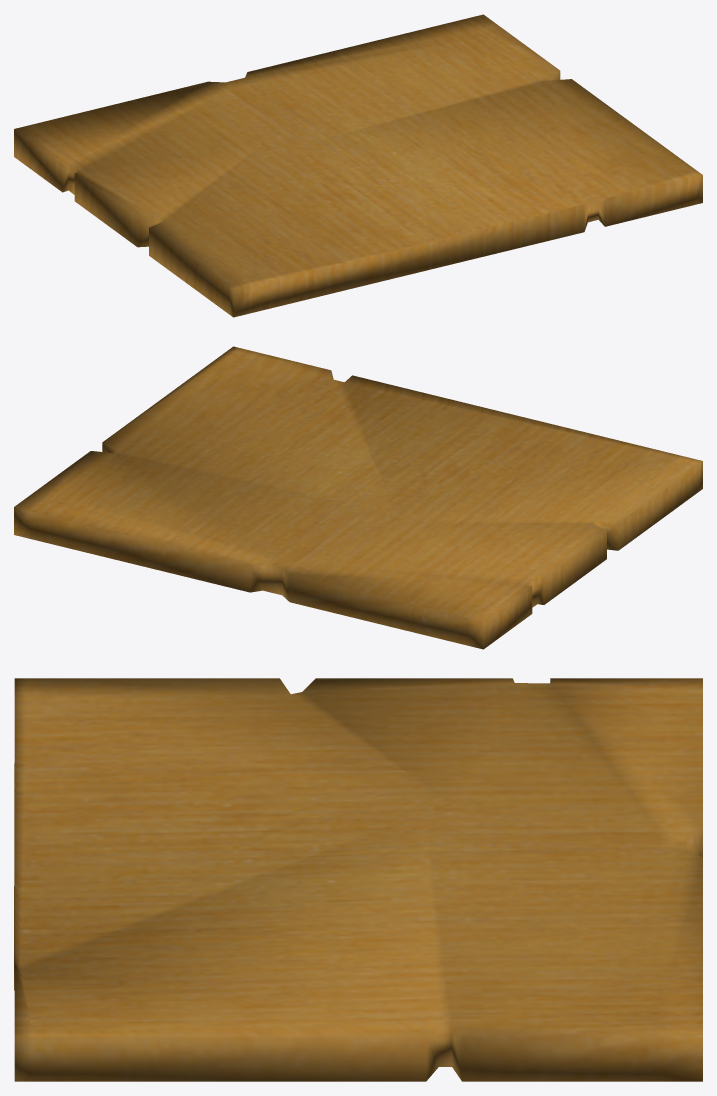
File: Ga-KoroPlank.fbx
3 renders of one model, top to bottom at view 1: azimuth 30°, elevation 25°; view 2: azimuth 150°, elevation 25°; view 3: azimuth 270°, elevation 25°, orthographic. The views are drawn at different scales.
Parts seen in each view (by area): view 1: Cube_359; view 2: Cube_359; view 3: Cube_359.
Boxes of the visible parts, box(x1,y1,x2,y2) form: Cube_359: box(14, 14, 702, 317); Cube_359: box(14, 346, 702, 649); Cube_359: box(14, 678, 702, 1081).
Size of the model in its own units: 0.4184 by 0.0239 by 0.339.
